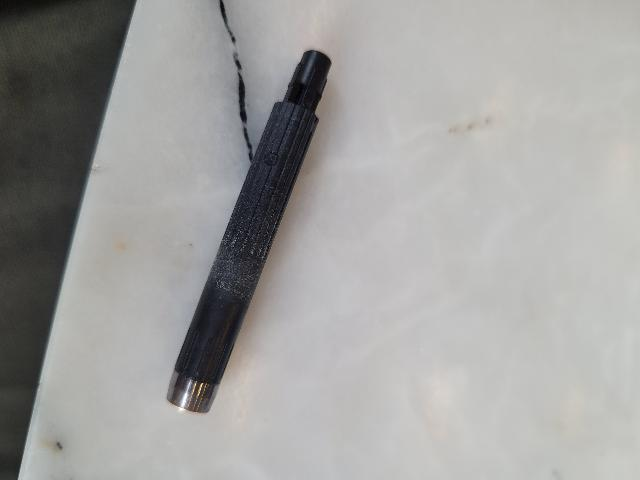Plastik: (160, 48, 340, 421)
